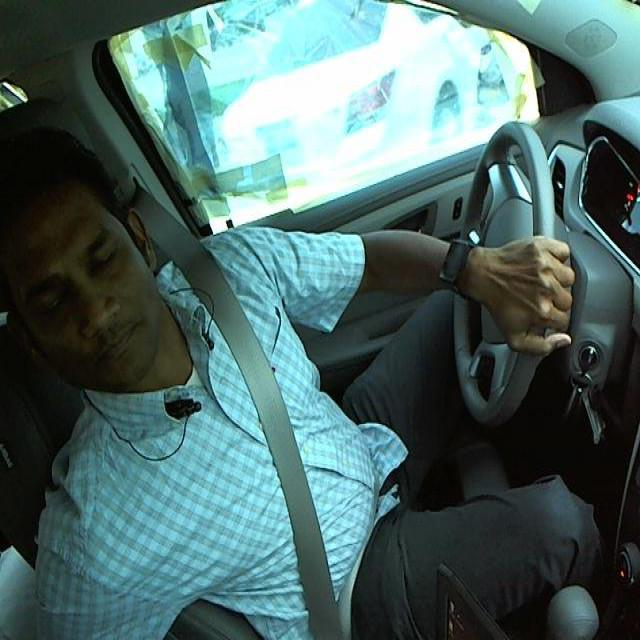seatbelt: (177, 268, 369, 637)
